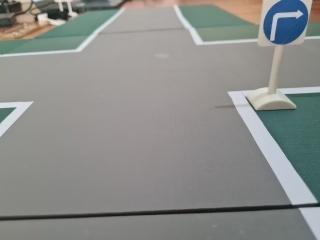right: (258, 0, 310, 50)
